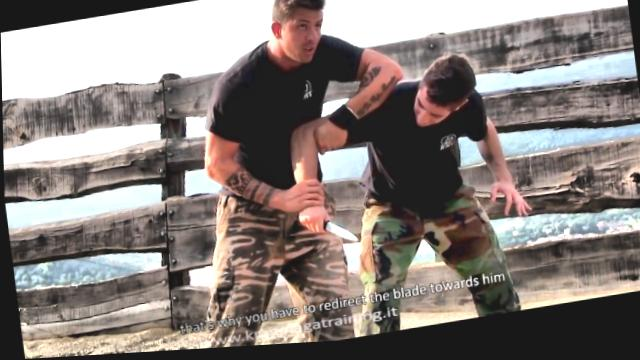knife: (295, 207, 361, 256)
